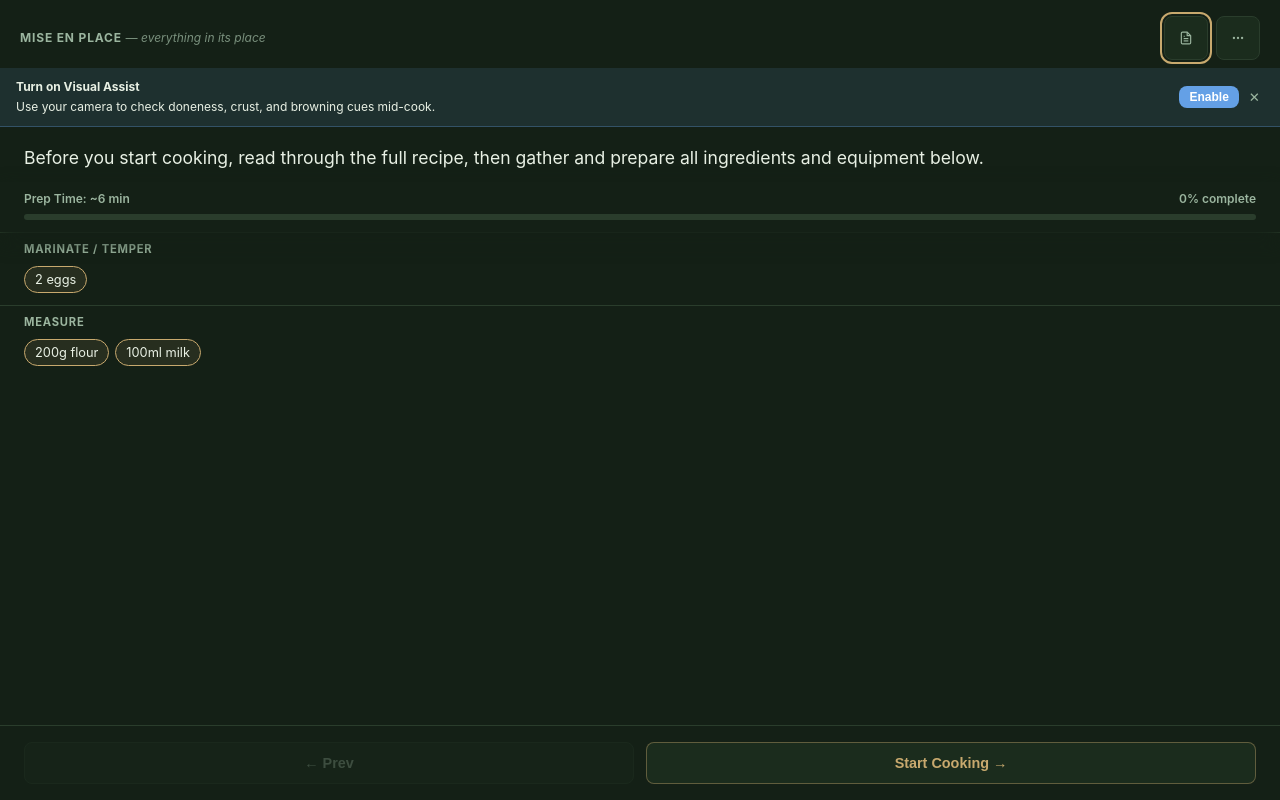
Test: CookingNavigator — hands-free button › clicking mic button again deactivates hands-free mode
Step 1. Click the button titled "Options" → (1238, 38), box [1216,16,1260,60]
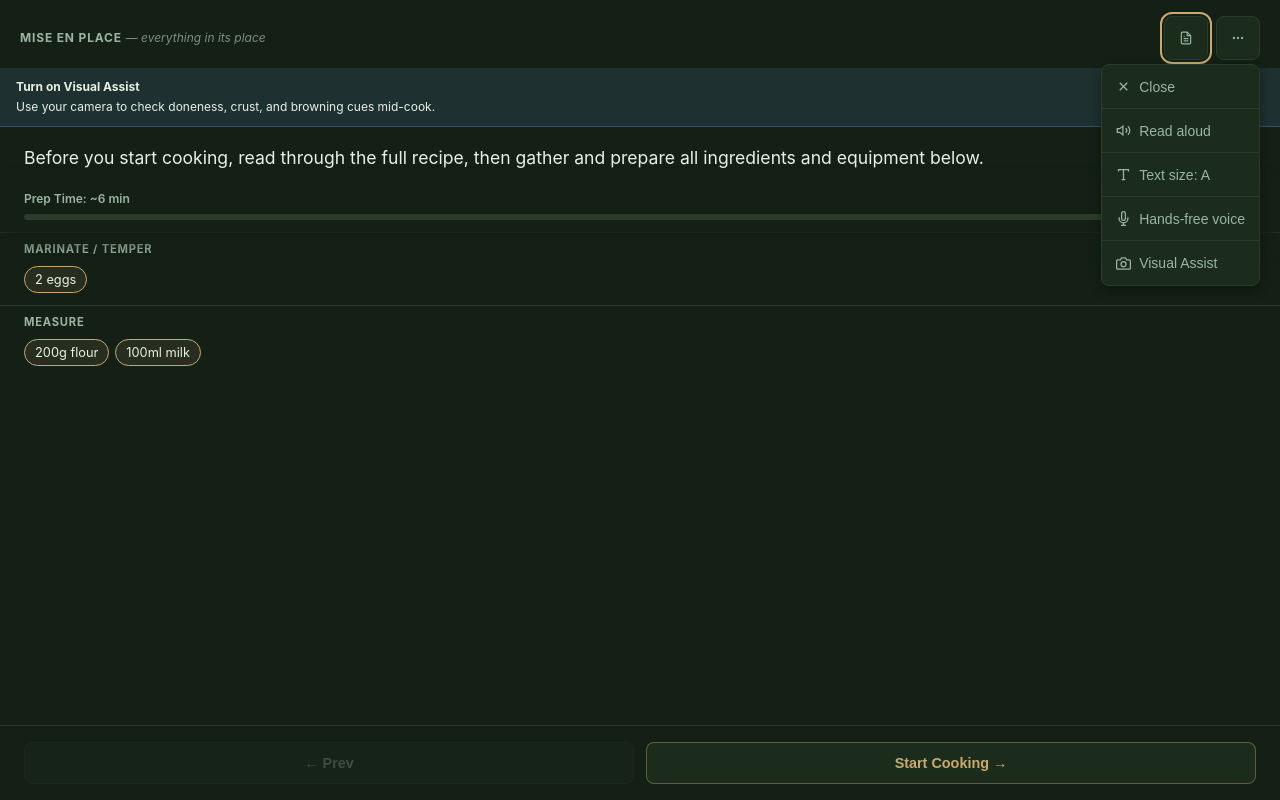
Step 2. Click the menu item titled "Start hands-free voice navigation" → (1181, 219), box [1102,197,1259,241]
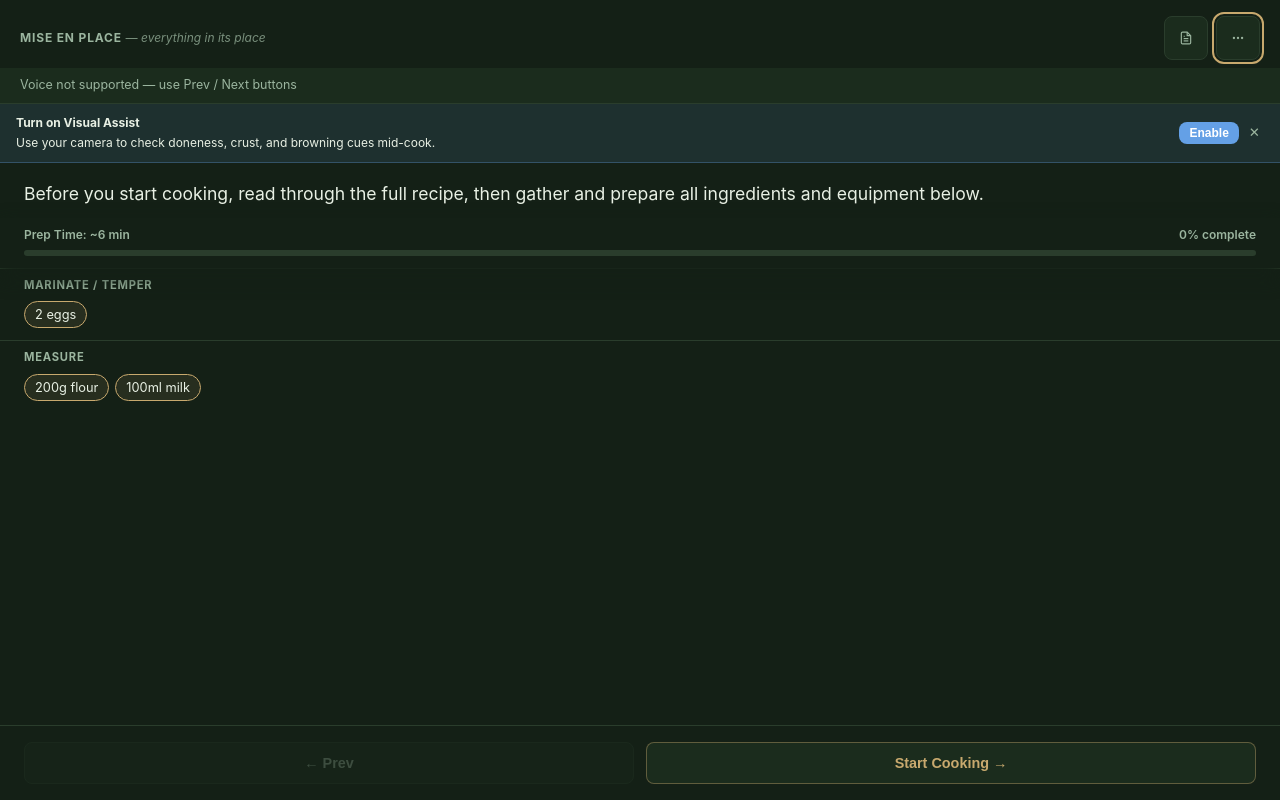
Step 3. Click the button titled "Options" → (1238, 38), box [1216,16,1260,60]
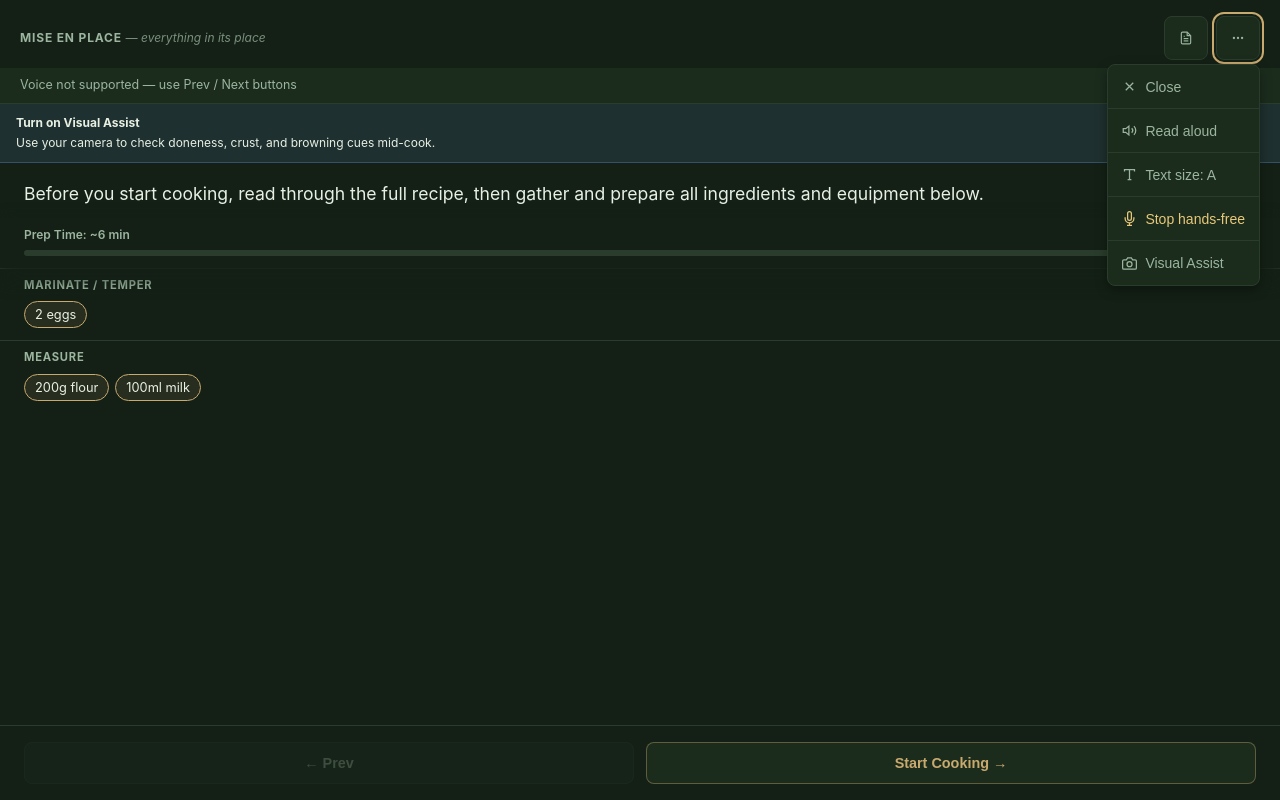
Step 4. Click the menu item titled "Stop hands-free mode" → (1184, 219), box [1108,197,1259,241]
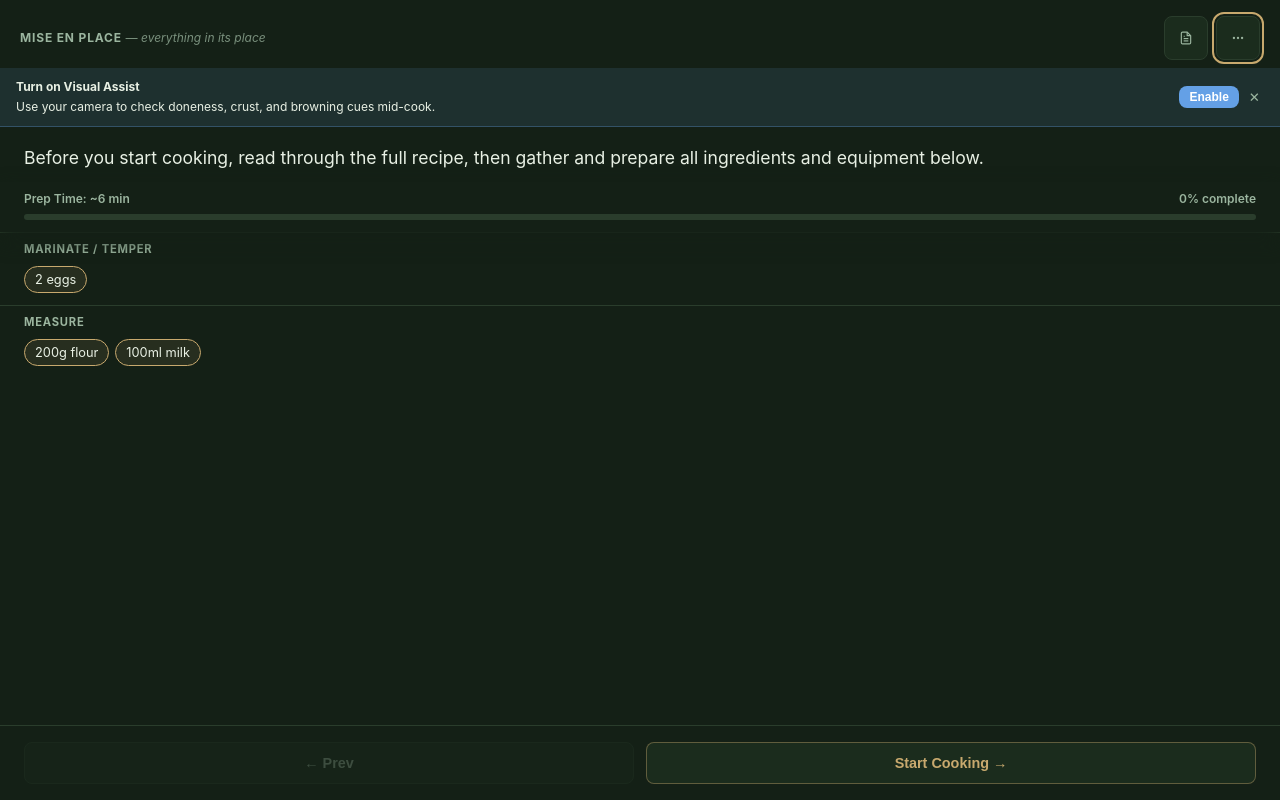
Check: the message "Voice not supported — use Prev / Next buttons" is gone
